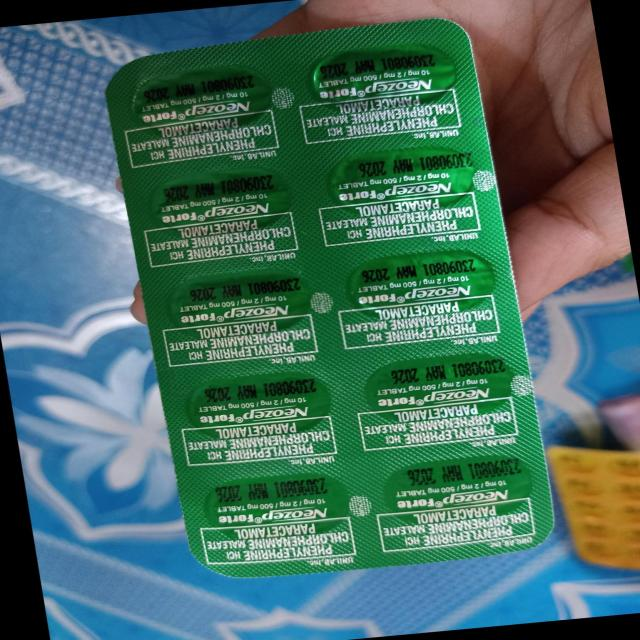Neozep_Strip: (104, 9, 572, 590)
